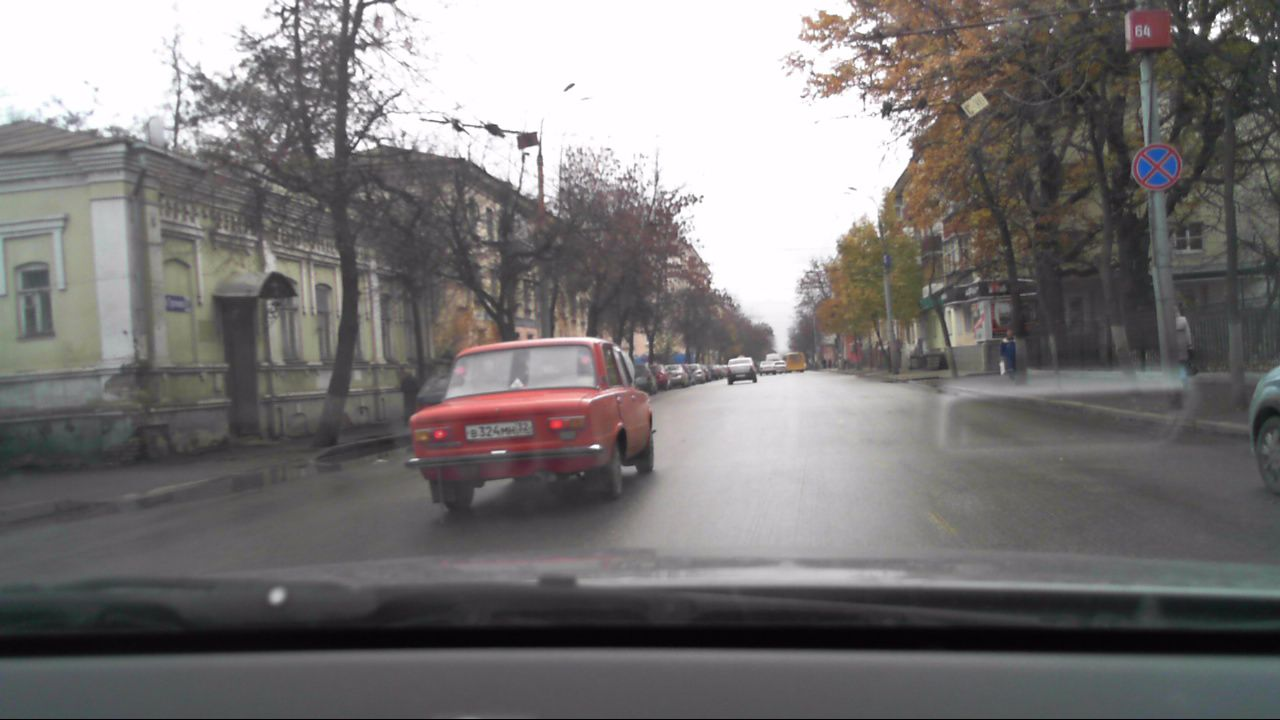No Parking: (1126, 141, 1186, 193)
